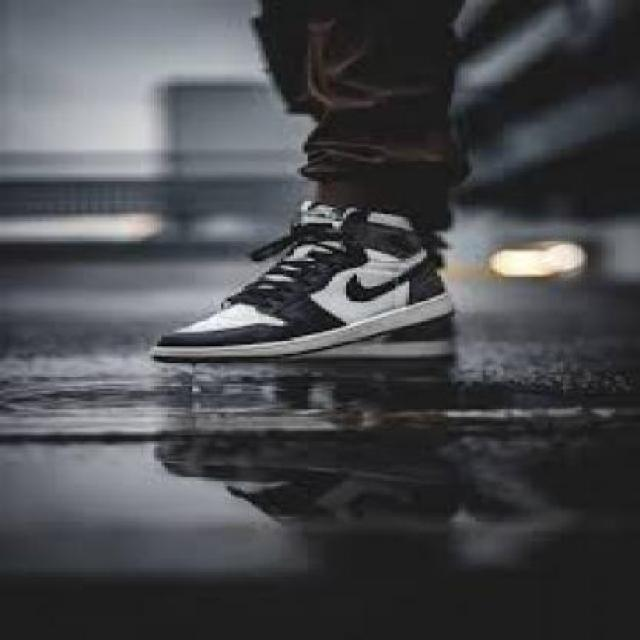Nike: (340, 253, 438, 301)
